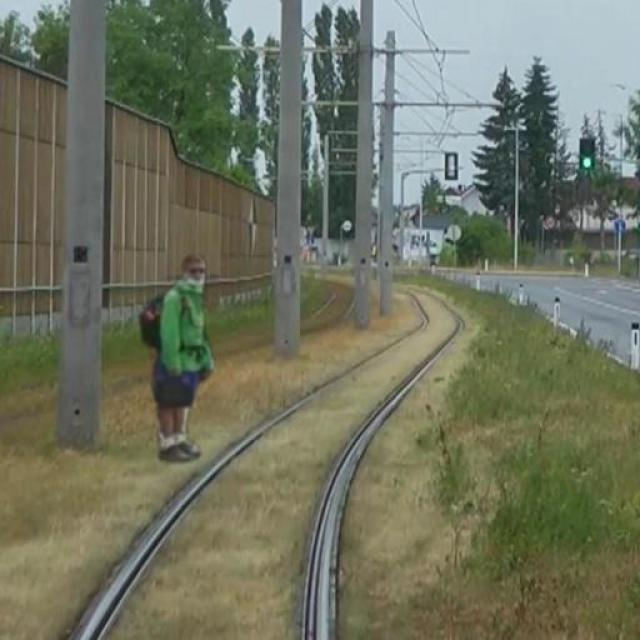people: (136, 247, 213, 475)
